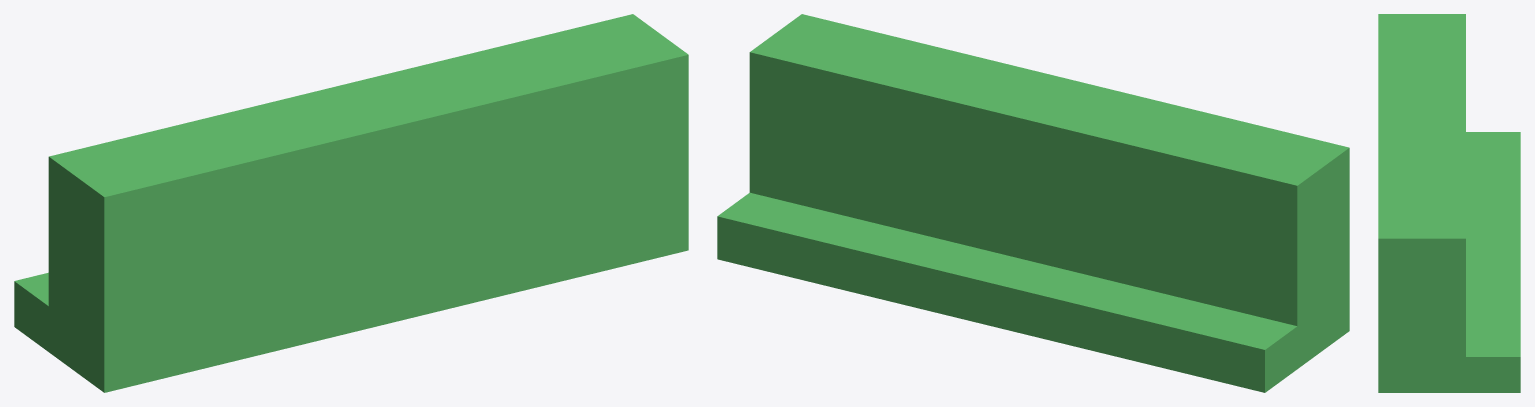
Rendered from parapet_combat_straight_4m_collision.glb.
3 views of the same model, side by side, from view 1: azimuth 30°, elevation 25°; view 2: azimuth 150°, elevation 25°; view 3: azimuth 270°, elevation 25° (orthographic). The views are drawn at different scales.
Parts seen in each view (by area): view 1: parapet_combat_straight_4m_wall-col, parapet_combat_straight_4m_firing_step-col; view 2: parapet_combat_straight_4m_wall-col, parapet_combat_straight_4m_firing_step-col; view 3: parapet_combat_straight_4m_wall-col, parapet_combat_straight_4m_firing_step-col.
Part boxes in pixels (x1,y1,x2,y2): parapet_combat_straight_4m_wall-col: (48,14,688,392); parapet_combat_straight_4m_firing_step-col: (14,272,54,356); parapet_combat_straight_4m_wall-col: (749,14,1349,364); parapet_combat_straight_4m_firing_step-col: (717,192,1302,392); parapet_combat_straight_4m_wall-col: (1378,14,1465,392); parapet_combat_straight_4m_firing_step-col: (1456,132,1520,392).
Bounding box in the file's own units: 4 × 1.28 × 1.07.
